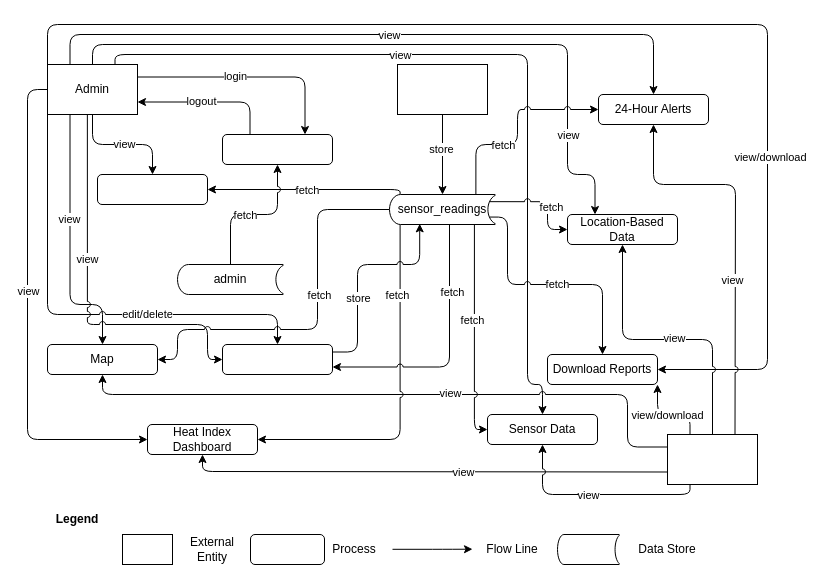
Some shapes in this 823 by 582 pixel diagram are drawn without their labels. The box of each missing label's shape, as (x1, y1, x2, y2) in pixels:
Authenticate: (222, 134, 332, 164)
Manage Sensors: (222, 344, 332, 374)
School Community: (666, 434, 758, 484)
Sensor: (396, 64, 488, 114)
Sensor Status: (96, 174, 208, 204)
